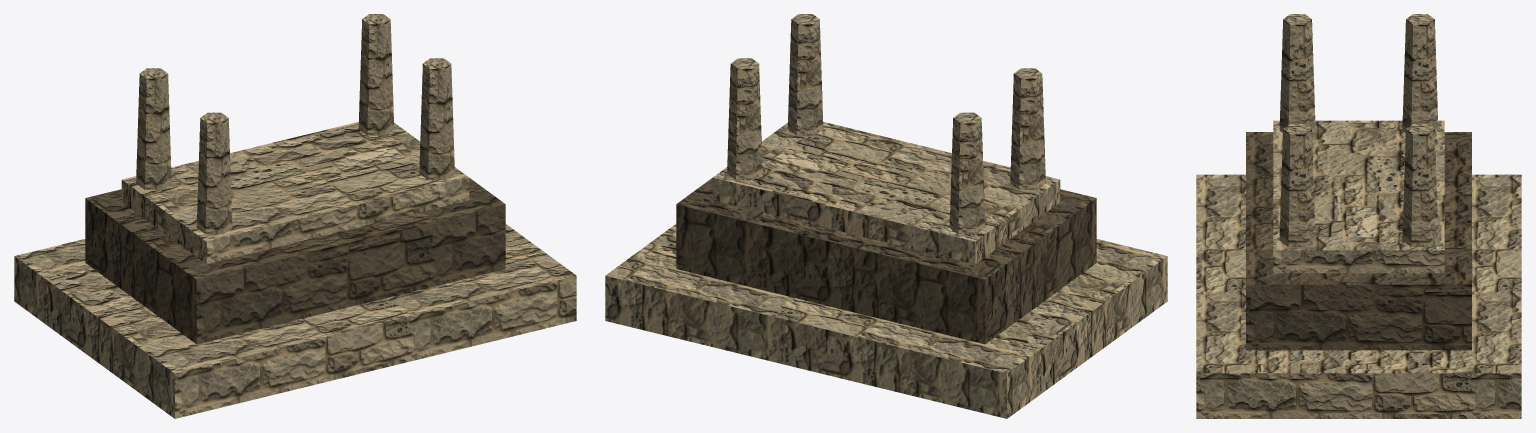
Rendered from altar_01.glb.
The picture shows the model from 3 angles, left to right: view 1: azimuth 30°, elevation 25°; view 2: azimuth 150°, elevation 25°; view 3: azimuth 270°, elevation 25°; orthographic projection.
Parts seen in each view (by area): view 1: altar_01; view 2: altar_01; view 3: altar_01.
Part boxes in pixels (x1,y1,x2,y2): altar_01: (14,14,576,418); altar_01: (605,14,1167,418); altar_01: (1196,14,1521,418).
Size of the model in its own units: 2.6 by 1.5 by 1.8.
Materials: 2 (2 with a texture image).
